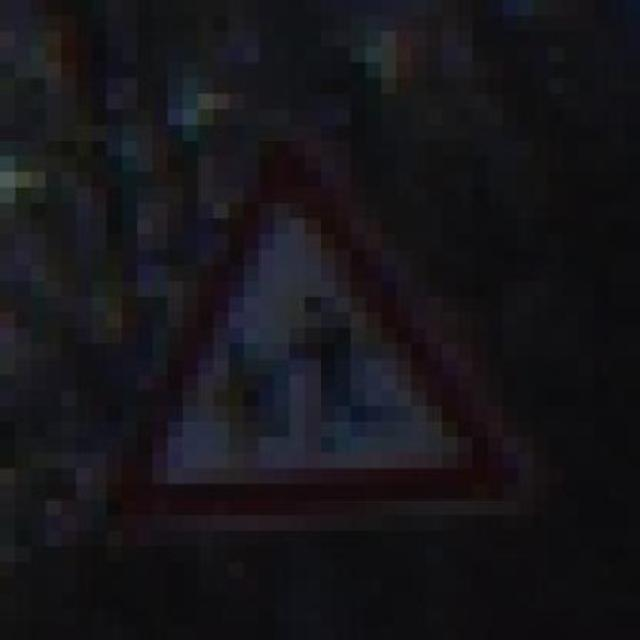Beware of children: (76, 124, 518, 516)
